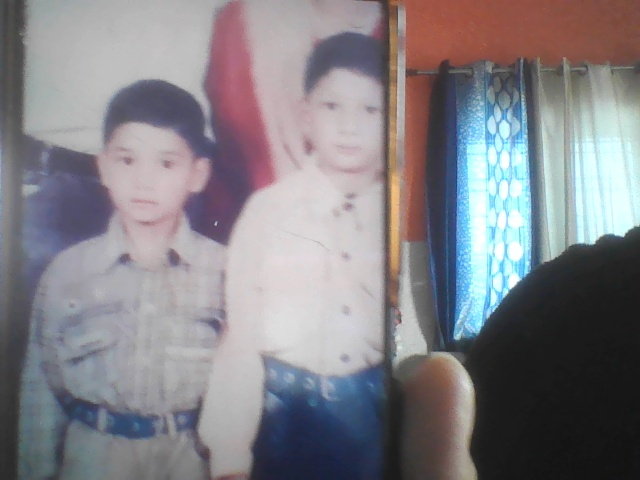fake: (105, 93, 205, 235)
